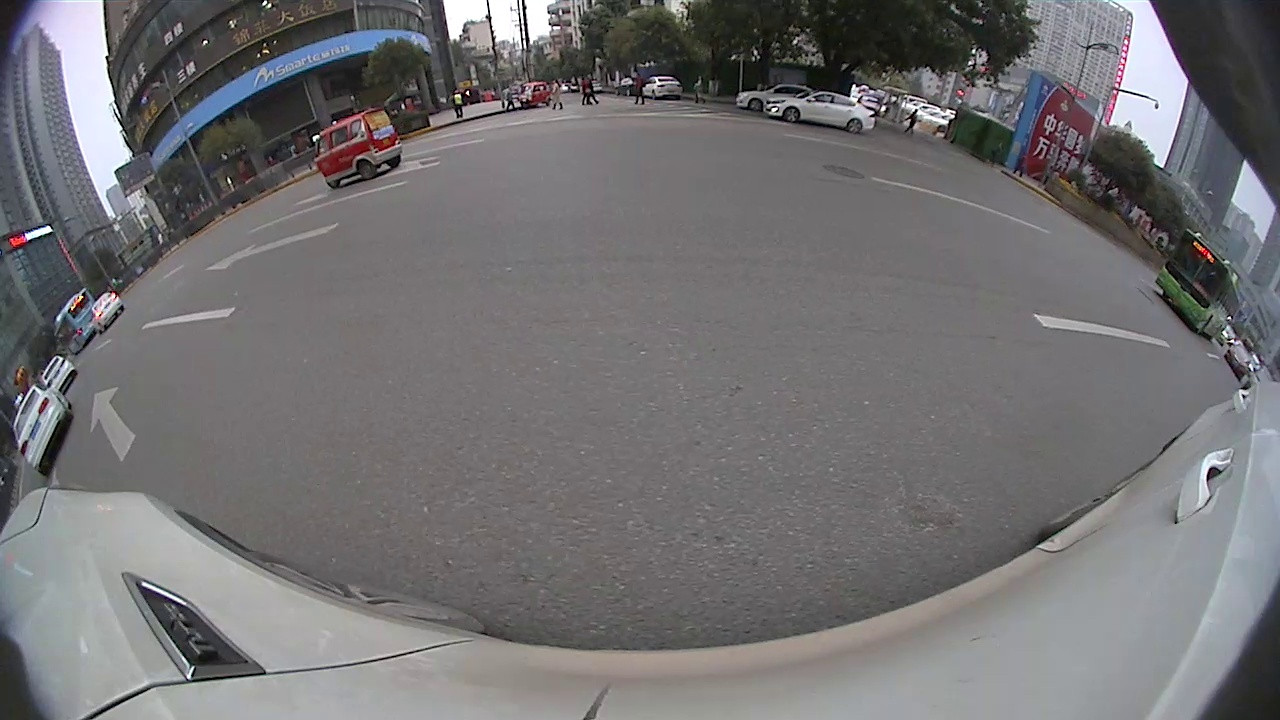bus: (1151, 226, 1239, 345), (55, 287, 102, 355)
car: (11, 380, 74, 479), (761, 90, 876, 135), (733, 83, 804, 114), (39, 354, 77, 390), (92, 289, 125, 327), (1224, 341, 1253, 378)
front: (745, 98, 764, 115), (783, 108, 802, 125)
rear: (356, 159, 377, 181), (845, 119, 866, 137)
rider: (312, 104, 400, 189)
